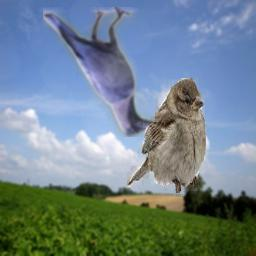Crow: (43, 7, 155, 137)
Sparrow: (127, 78, 206, 202)
